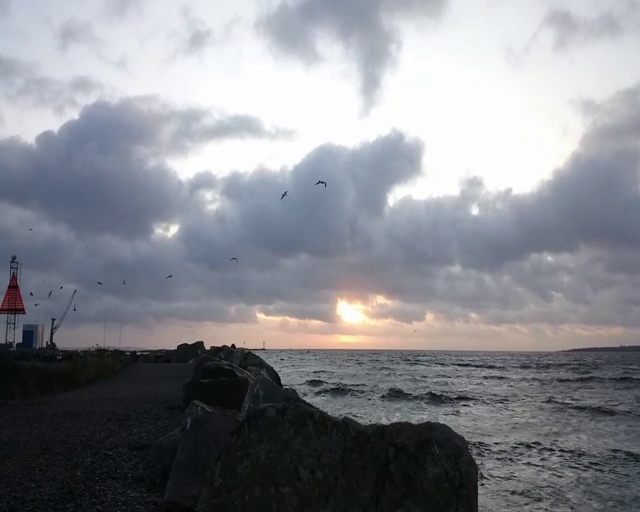BIRD: (42, 285, 79, 349)
